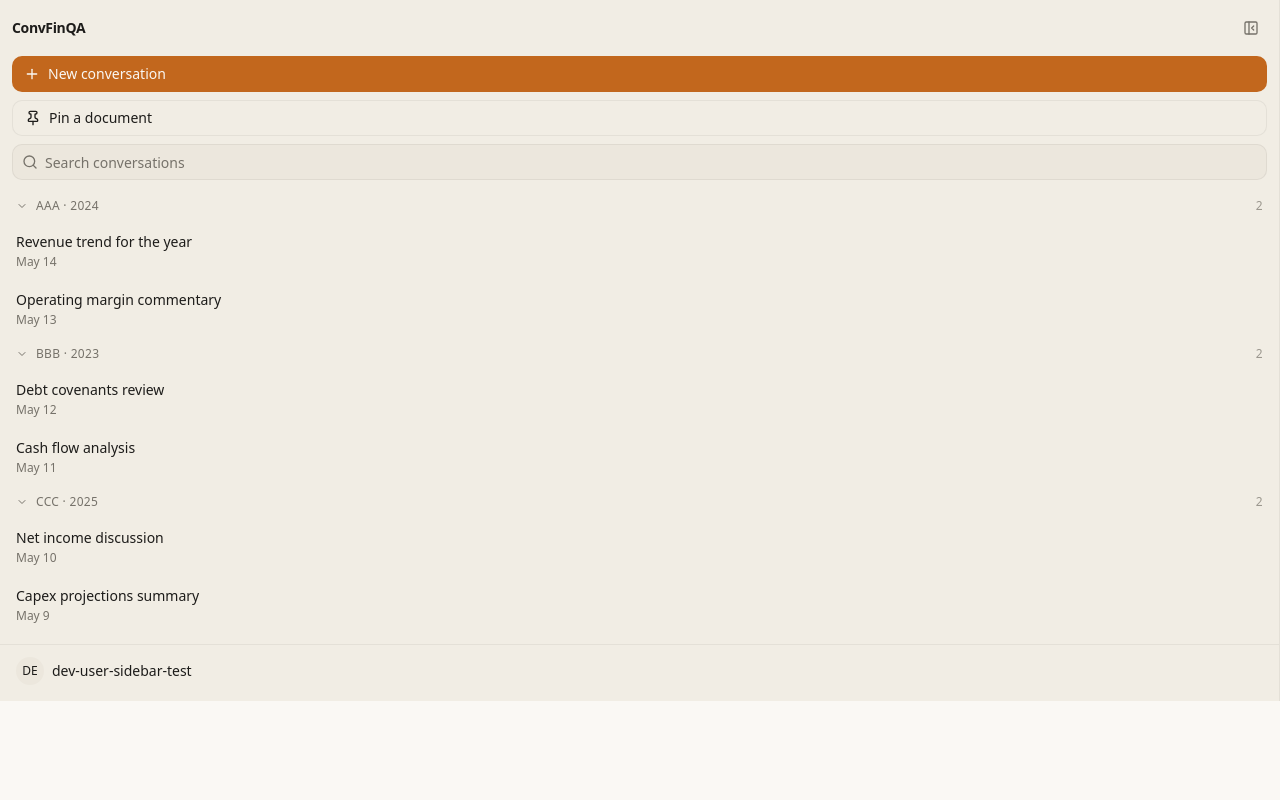
Sidebar — grouped chat list › narrows the visible rows when the user types a substring of a preview
Expected: the text "Revenue trend for the year" is shown, [16, 232, 192, 251]
Type "margin" into the search field labelled "Search conversations" at (640, 162), box [12, 144, 1267, 180]
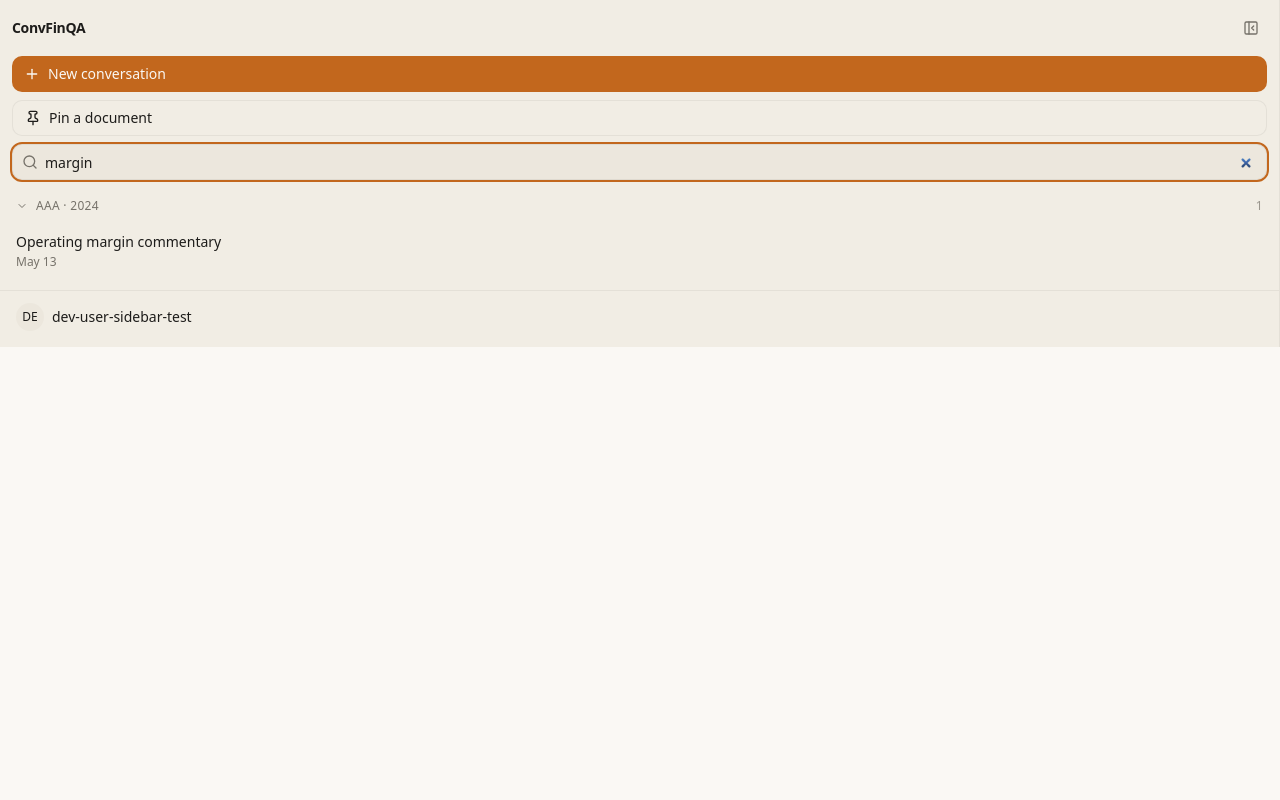
Expected: the text "Operating margin commentary" is shown, [16, 232, 221, 251]
Result: the button "Revenue trend for the year" is gone
Result: the button "BBB · 2023" is gone
